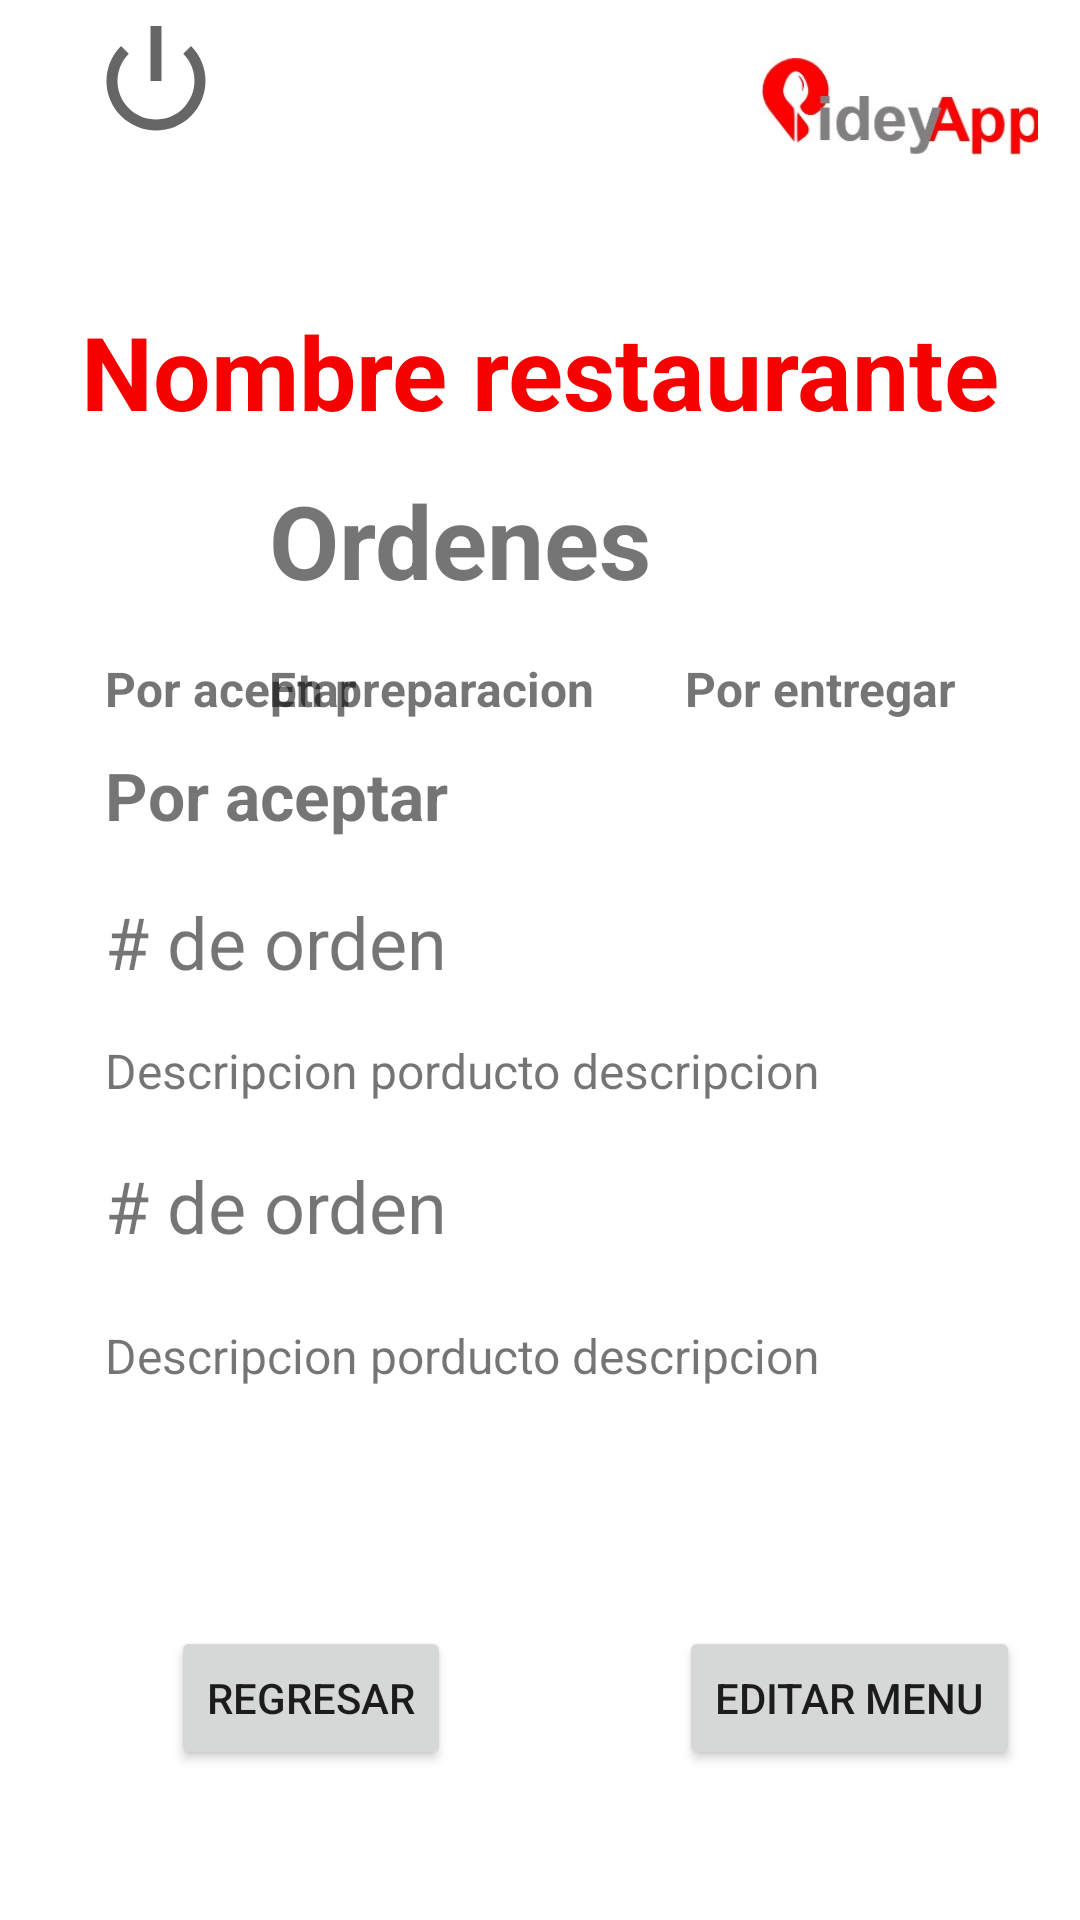

Icon click points for this 1080 × 1920 phone screenshot, format point (x, y):
lock power off: point (156, 78)
